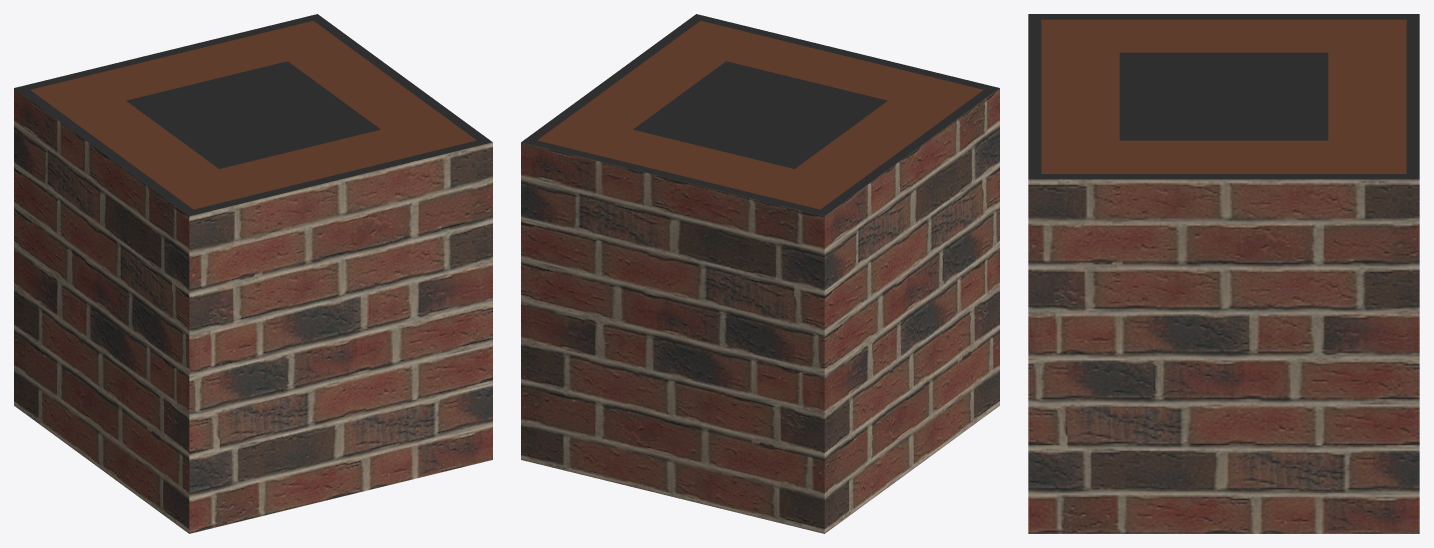
The model's file is brick_wall2.obj.
3 views of the same model, side by side, from view 1: azimuth 30°, elevation 25°; view 2: azimuth 150°, elevation 25°; view 3: azimuth 270°, elevation 25° (orthographic). The views are drawn at different scales.
Visible parts, largest first — view 1: Куб; view 2: Куб; view 3: Куб.
Part boxes in pixels (x1,y1,x2,y2): Куб: (14,14,492,533); Куб: (521,14,999,533); Куб: (1028,14,1419,533).
Size of the model in its own units: 1 by 1 by 1.
Materials: 3 (1 with a texture image).
